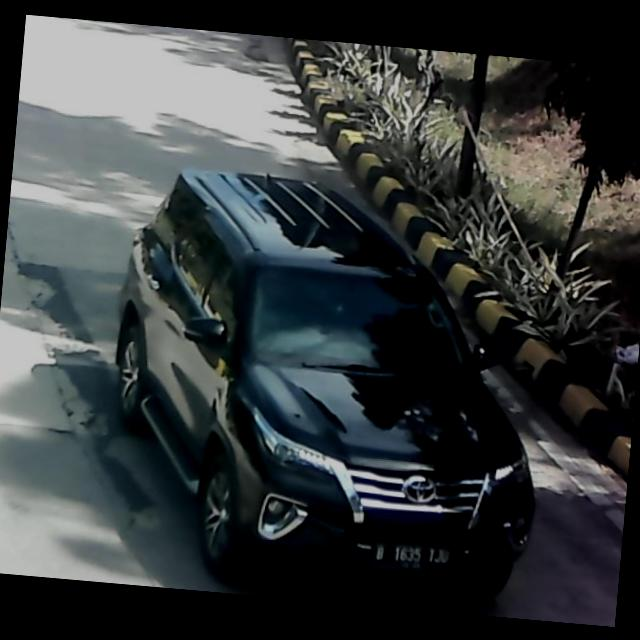plate: (370, 534, 454, 572)
